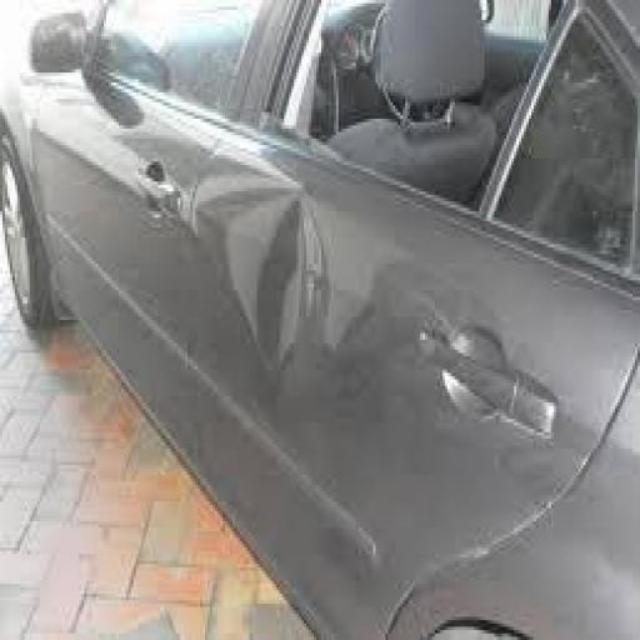dent: (212, 183, 328, 386)
